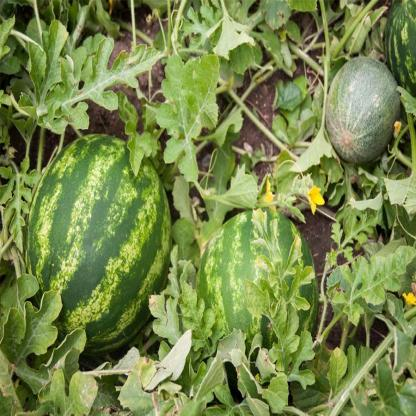--: (19, 112, 179, 366)
